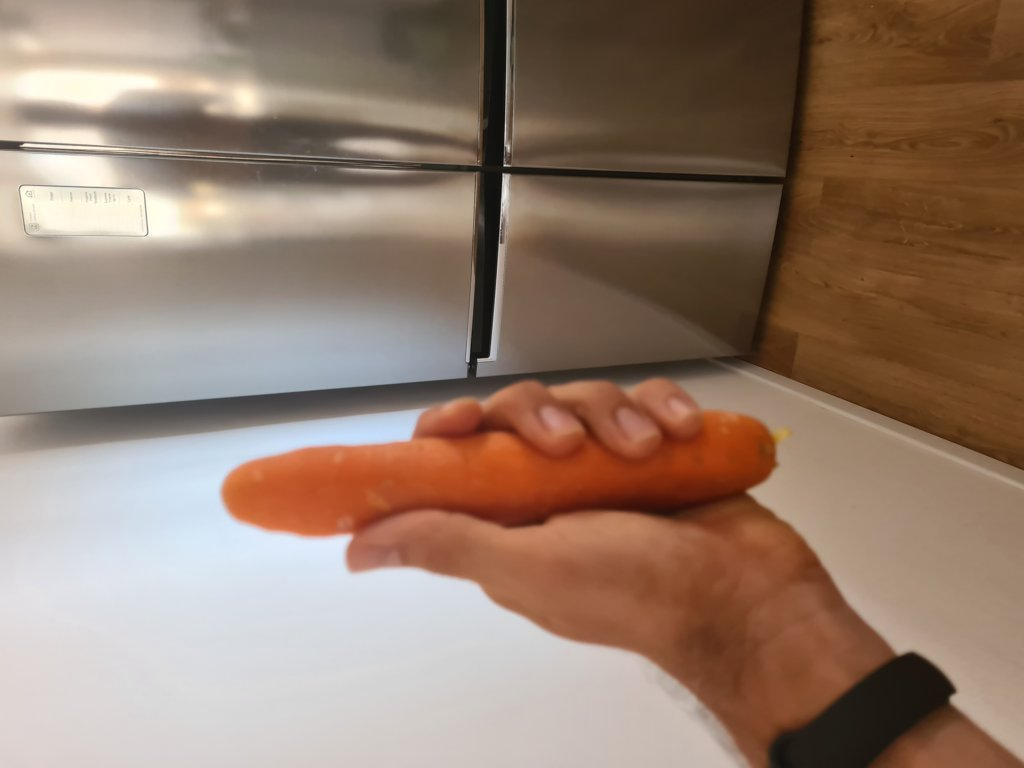carrot: (222, 414, 785, 535)
